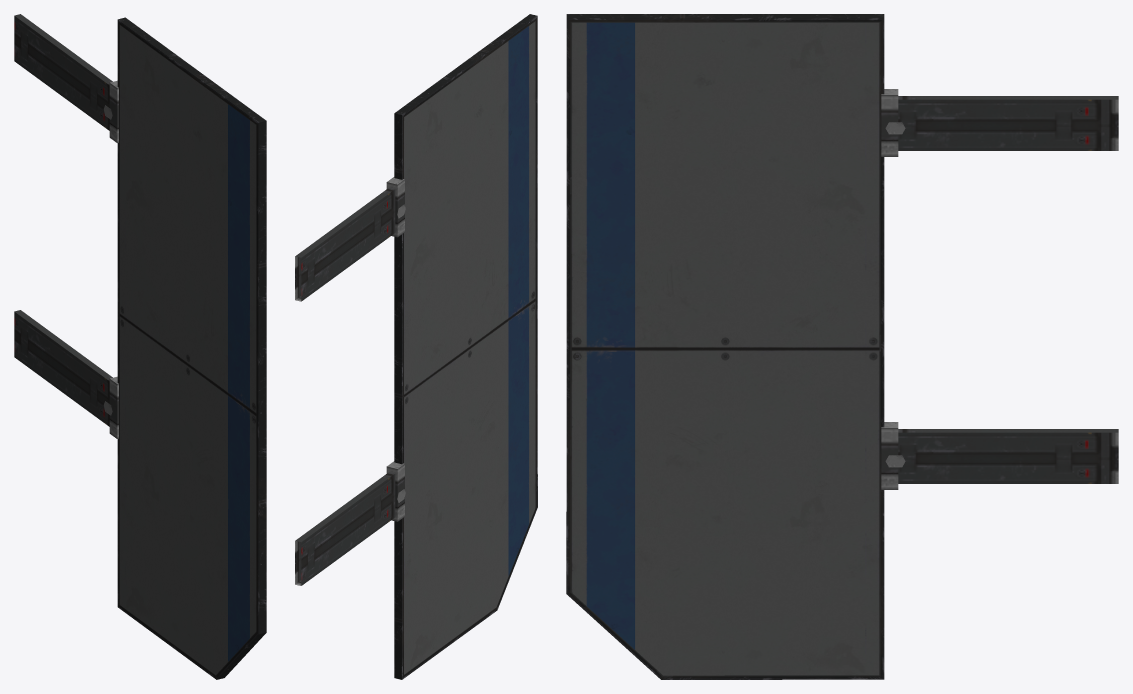
The model's file is Subway_Wall_el3_L1.fbx.
3 views of the same model, side by side, from view 1: azimuth 30°, elevation 25°; view 2: azimuth 150°, elevation 25°; view 3: azimuth 270°, elevation 25° (orthographic). The views are drawn at different scales.
Parts seen in each view (by area): view 1: polySurface344; view 2: polySurface344; view 3: polySurface344.
Boxes of the visible parts, <box> form: polySurface344: <box>14,14,266,679</box>; polySurface344: <box>295,14,537,679</box>; polySurface344: <box>566,14,1118,679</box>.
Size of the model in its own units: 8.9 by 298 by 225.
